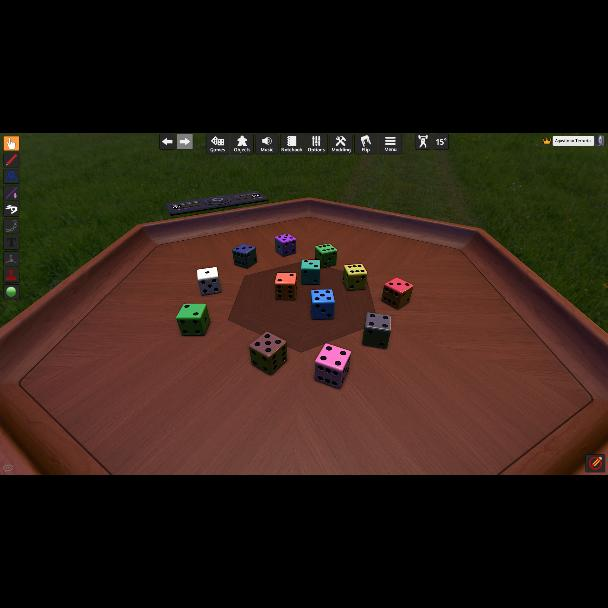d6: (249, 332, 287, 376), (314, 343, 350, 387), (176, 304, 209, 336), (362, 312, 390, 348), (382, 278, 412, 310), (311, 288, 333, 319), (198, 268, 222, 296), (343, 264, 367, 290), (232, 244, 256, 270), (273, 273, 295, 301), (275, 234, 297, 258), (314, 243, 335, 268), (300, 260, 319, 284)
